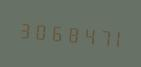eight: (62, 19, 76, 47)
four: (77, 20, 91, 48)
one: (107, 23, 121, 51)
seven: (92, 21, 106, 50)
six: (47, 18, 61, 46)
three: (17, 15, 31, 43)
zero: (32, 16, 46, 44)
